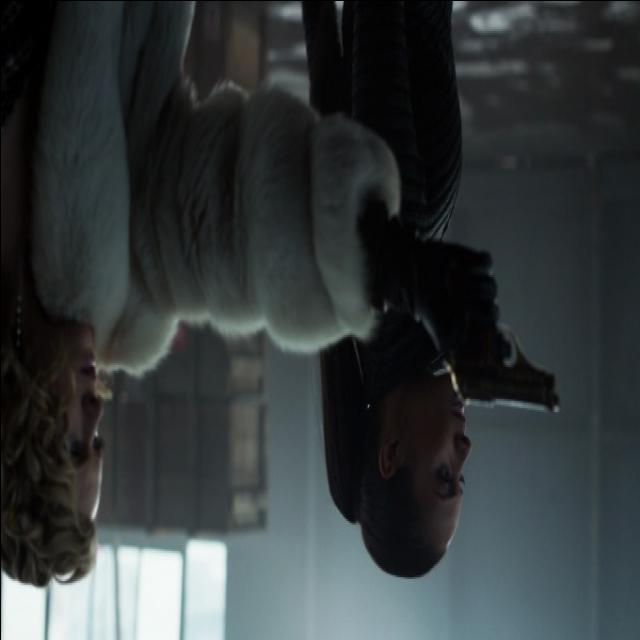weapons: (438, 248, 584, 443)
